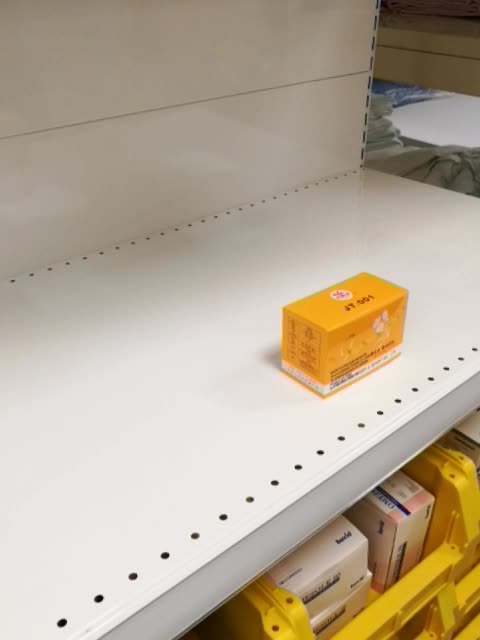jasminetea: (275, 269, 412, 401)
